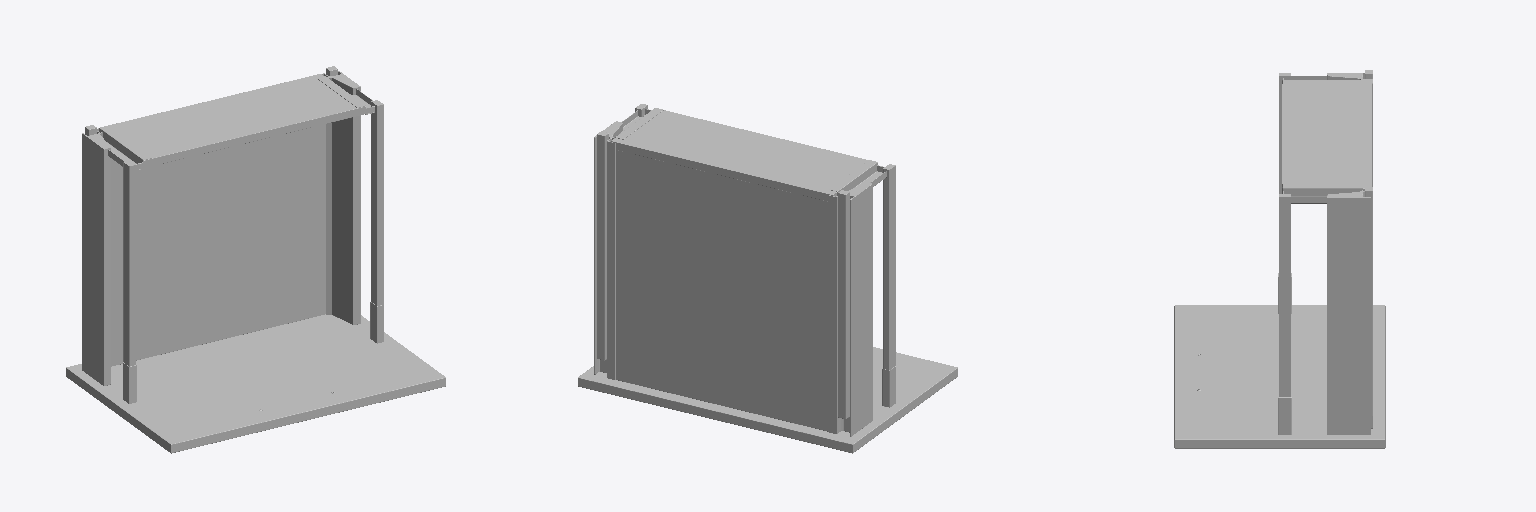
Rendered from SM_Kitchen_05_Base_Drawer_03.obj.
3 renders of one model, left to right at view 1: azimuth 30°, elevation 25°; view 2: azimuth 150°, elevation 25°; view 3: azimuth 270°, elevation 25°, orthographic.
Parts seen in each view (by area): view 1: SM_Kitchen_05_Base_Drawer_03; view 2: SM_Kitchen_05_Base_Drawer_03; view 3: SM_Kitchen_05_Base_Drawer_03.
Boxes of the visible parts, <box> form: SM_Kitchen_05_Base_Drawer_03: <box>66,66,445,453</box>; SM_Kitchen_05_Base_Drawer_03: <box>578,104,957,453</box>; SM_Kitchen_05_Base_Drawer_03: <box>1174,70,1385,448</box>.
Bounding box in the file's own units: 0.5969 × 0.5199 × 0.396.